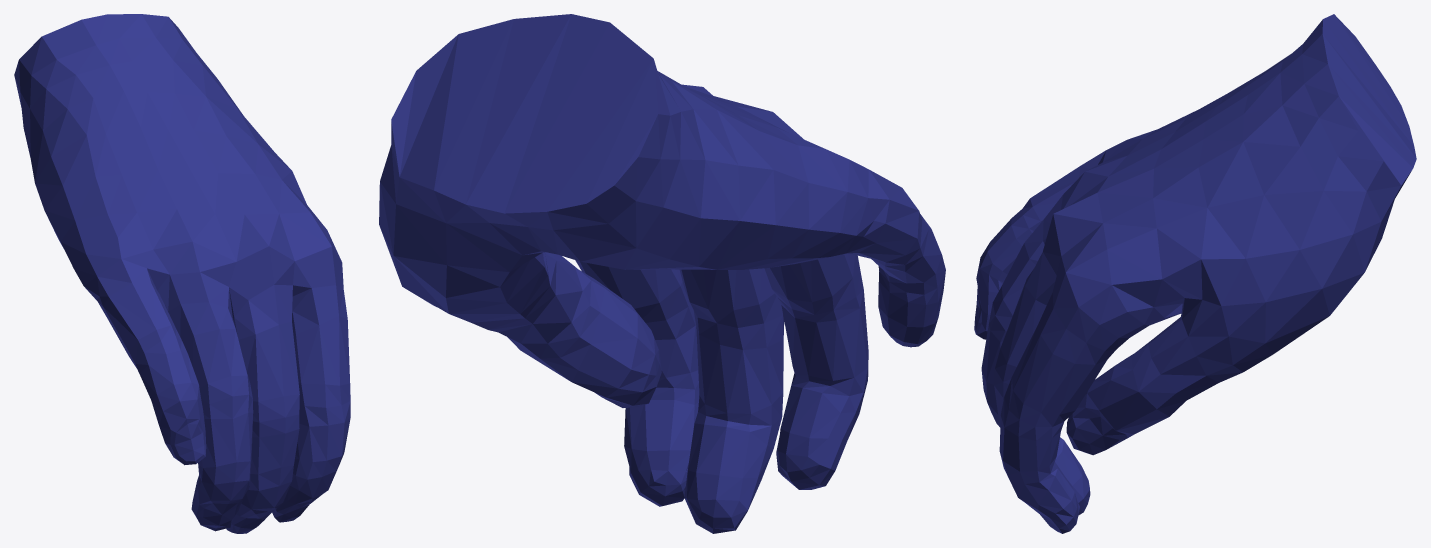
3 views of the same model, side by side, from view 1: azimuth 30°, elevation 25°; view 2: azimuth 150°, elevation 25°; view 3: azimuth 270°, elevation 25° (orthographic). The views are drawn at different scales.
Bounding box in the file's own units: 0.0892 × 0.1495 × 0.1264.
